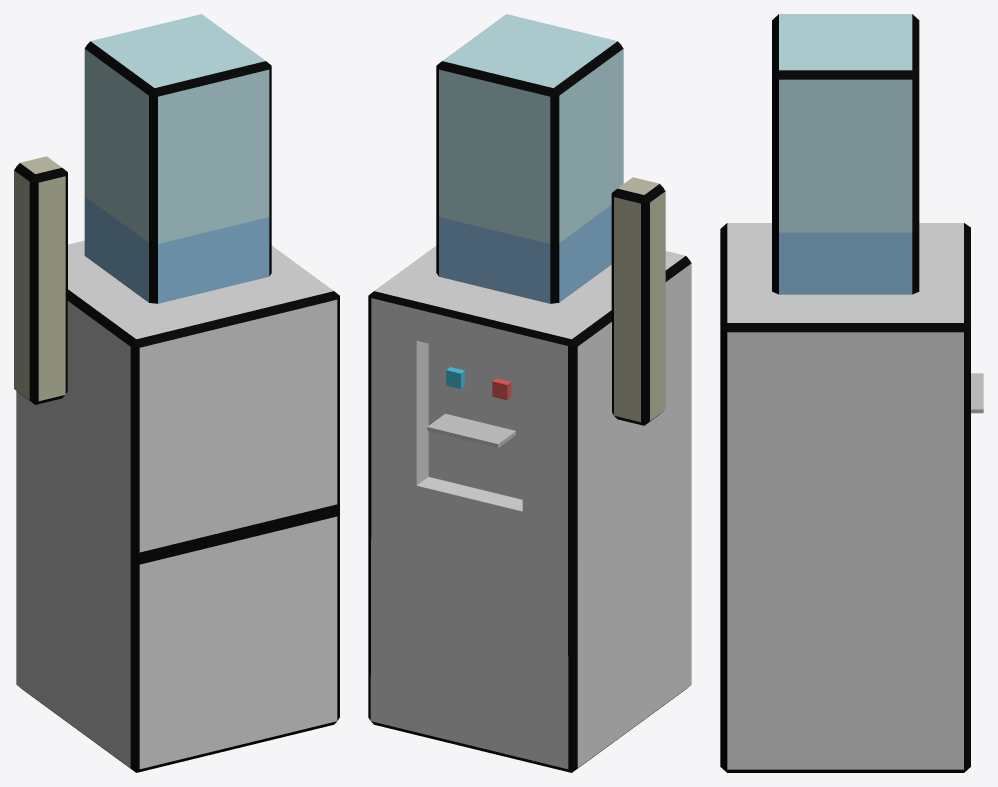
The model's file is OF_Water 1.fbx.
3 renders of one model, left to right at view 1: azimuth 30°, elevation 25°; view 2: azimuth 150°, elevation 25°; view 3: azimuth 270°, elevation 25°, orthographic. The views are drawn at different scales.
Parts seen in each view (by area): view 1: Cube.016; view 2: Cube.016; view 3: Cube.016.
Boxes of the visible parts, <box> form: Cube.016: <box>14,14,339,772</box>; Cube.016: <box>368,14,691,772</box>; Cube.016: <box>720,14,983,772</box>.
Bounding box in the file's own units: 83.67 × 213 × 74.53.
8 materials, 1 textured.
